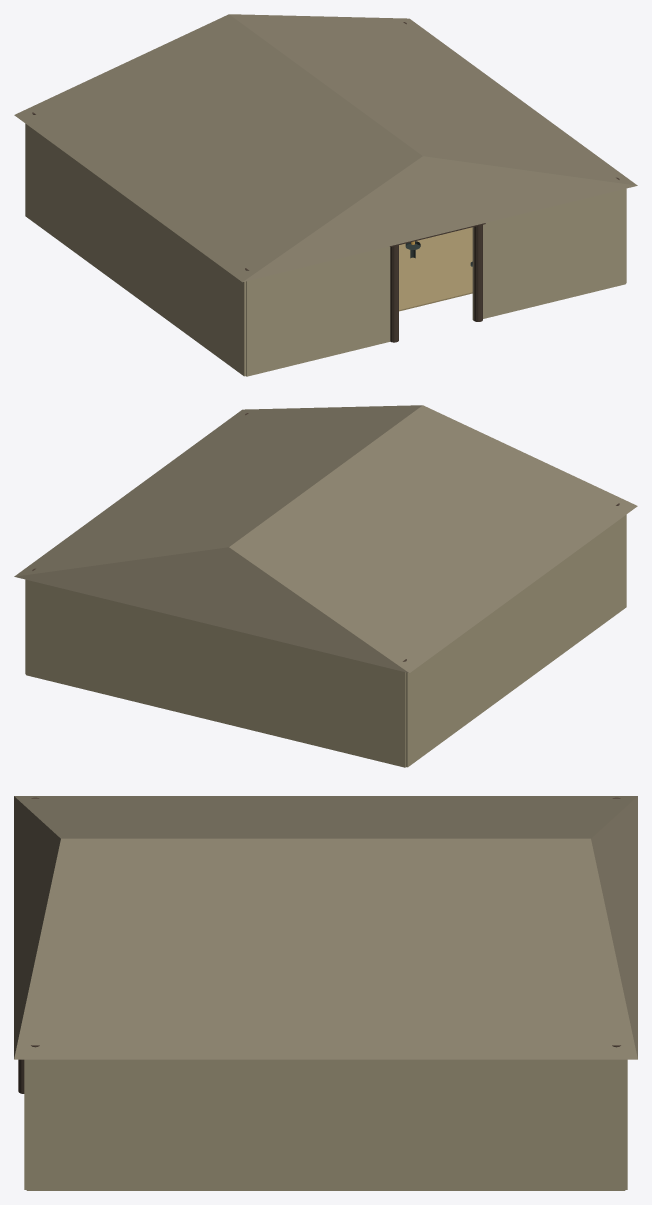
The model's file is main-tent-council.obj.
The picture shows the model from 3 angles, top to bottom: view 1: azimuth 30°, elevation 25°; view 2: azimuth 150°, elevation 25°; view 3: azimuth 270°, elevation 25°; orthographic projection. The views are drawn at different scales.
Parts seen in each view (by area): view 1: MAIN-roof, MAIN-west-wall, MAIN-front-1, MAIN-front--1, ritual-mat, main-doorpost--1, main-doorpost-1; view 2: MAIN-roof, MAIN-north-wall, MAIN-west-wall; view 3: MAIN-roof, MAIN-east-wall.
Part boxes in pixels (x1,y1,x2,y2): MAIN-roof: [14, 14, 637, 282]; MAIN-west-wall: [25, 123, 245, 376]; MAIN-front-1: [472, 188, 625, 320]; MAIN-front--1: [246, 246, 390, 376]; ritual-mat: [399, 227, 472, 311]; main-doorpost--1: [390, 244, 398, 342]; main-doorpost-1: [474, 224, 482, 321]; MAIN-roof: [14, 405, 637, 673]; MAIN-north-wall: [26, 579, 405, 767]; MAIN-west-wall: [406, 514, 626, 767]; MAIN-roof: [14, 796, 637, 1059]; MAIN-east-wall: [26, 1059, 625, 1190].
Bounding box in the file's own units: 14.6 × 5.8 × 14.6.
